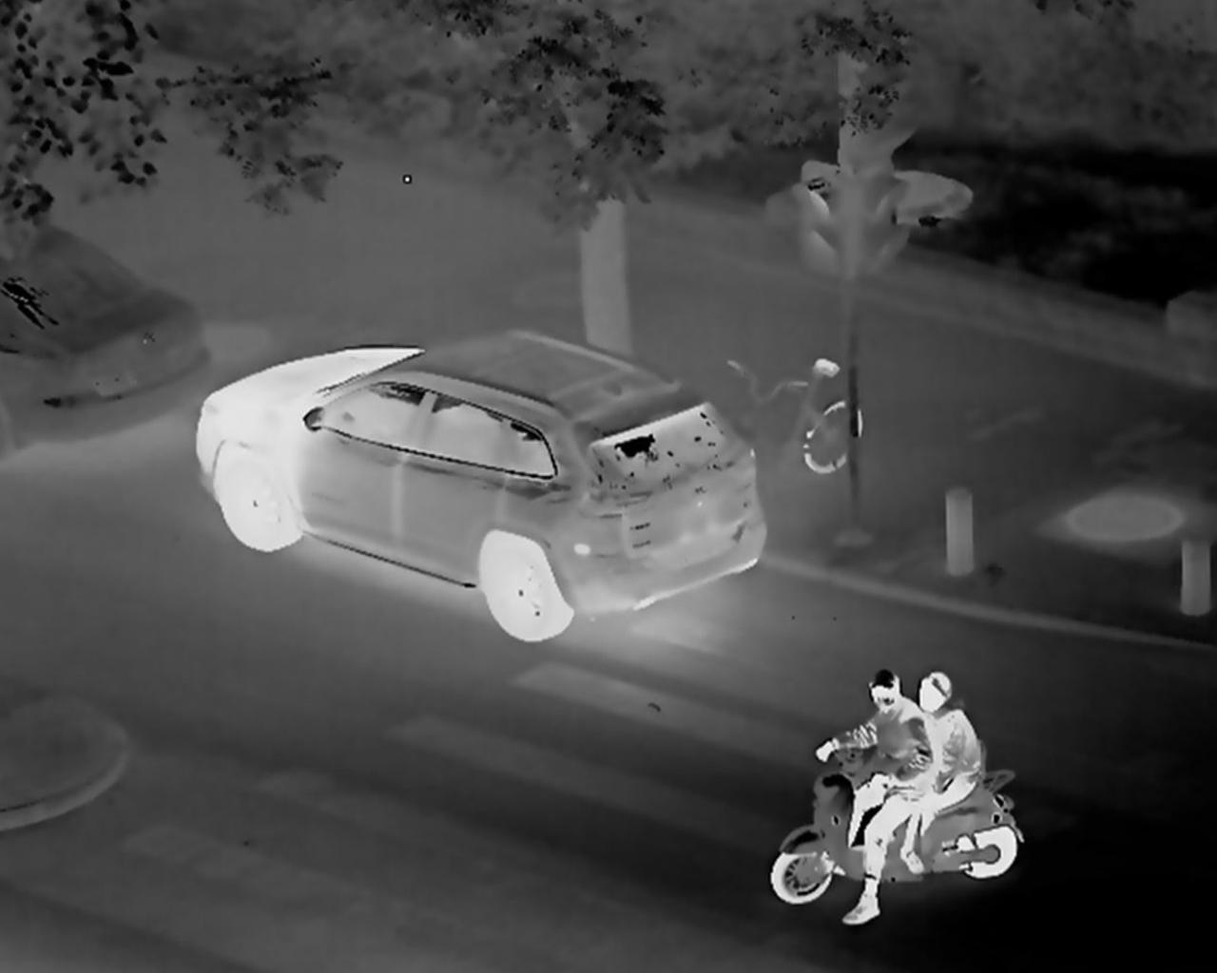person: (812, 669, 929, 925), (889, 672, 976, 877)
